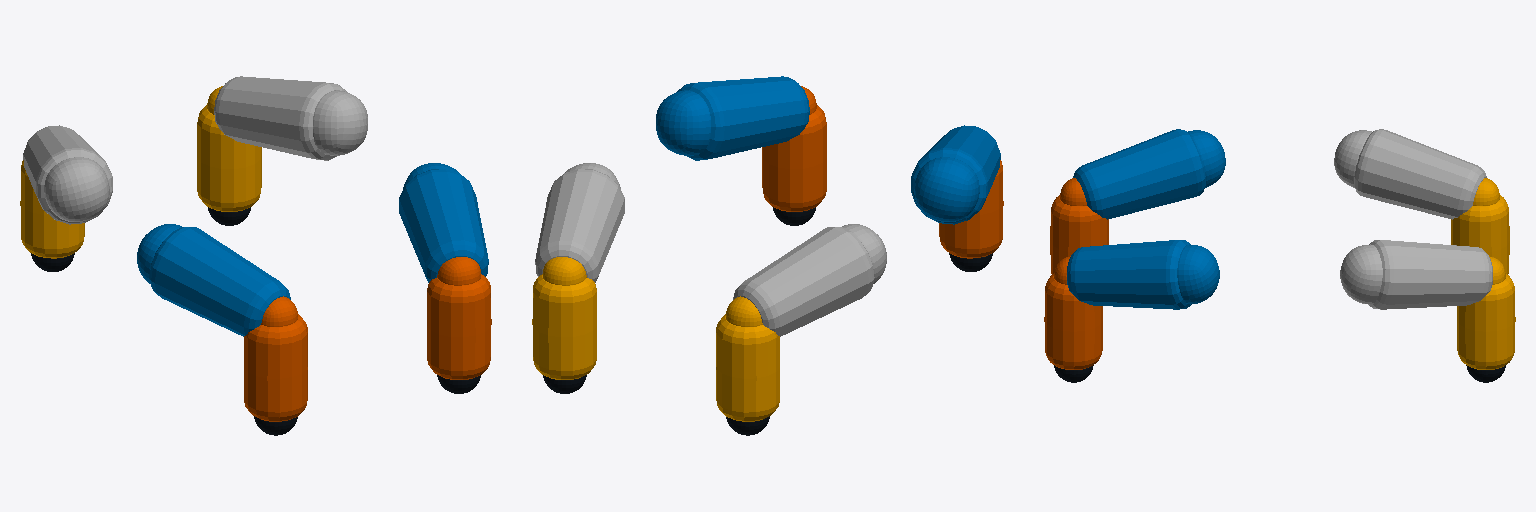
URDF robot description (lizard_robot):
<?xml version='1.0' encoding='utf-8'?>
<robot name="lizard_robot">
  <link name="base_link">
<inertial>
      <origin xyz="-0.562282 -0.000000 0.000041" rpy="0 0 0" />
      <mass value="11.5415" />
      <inertia ixx="0.882862" ixy="0" ixz="0" iyy="1.369187" iyz="0" izz="1.369187" />
    </inertial>
    
    <visual>
      <origin xyz="0 0 0" rpy="0 0 0" />
      <geometry><mesh filename="meshes/visual/base_link_visual.obj" /></geometry>
    </visual>
    <collision>
      <origin xyz="0 0 0" rpy="0 0 0" />
      <geometry><mesh filename="meshes/collision/base_link_collision.obj" /></geometry>
    </collision>
  </link>
  <link name="chest_yaw">
<inertial>
      <origin xyz="0.000000 0.000000 0.000000" rpy="0 0 0" />
      <mass value="0.0500" />
      <inertia ixx="0.000001" ixy="0" ixz="0" iyy="0.000001" iyz="0" izz="0.000001" />
    </inertial>
  
  </link>
  <link name="chest_pitch">
<inertial>
      <origin xyz="0.349711 -0.000000 0.000041" rpy="0 0 0" />
      <mass value="16.2013" />
      <inertia ixx="1.332114" ixy="0" ixz="0" iyy="2.816066" iyz="0" izz="2.816066" />
    </inertial>
    
    <visual>
      <origin xyz="0 0 0" rpy="0 0 0" />
      <geometry><mesh filename="meshes/visual/chest_pitch_visual.obj" /></geometry>
    </visual>
    <collision>
      <origin xyz="0 0 0" rpy="0 0 0" />
      <geometry><mesh filename="meshes/collision/chest_pitch_collision.obj" /></geometry>
    </collision>
  </link>
  <link name="neck_yaw">
<inertial>
      <origin xyz="0.000000 0.000000 0.000000" rpy="0 0 0" />
      <mass value="0.0500" />
      <inertia ixx="0.000001" ixy="0" ixz="0" iyy="0.000001" iyz="0" izz="0.000001" />
    </inertial>
  
  </link>
  <link name="neck_pitch">
<inertial>
      <origin xyz="-0.081966 -0.000000 0.001171" rpy="0 0 0" />
      <mass value="11.3585" />
      <inertia ixx="1.259181" ixy="0" ixz="0" iyy="1.298410" iyz="0" izz="1.273023" />
    </inertial>
    
    <visual>
      <origin xyz="0 0 0" rpy="0 0 0" />
      <geometry><mesh filename="meshes/visual/neck_pitch_visual.obj" /></geometry>
    </visual>
    <collision>
      <origin xyz="0 0 0" rpy="0 0 0" />
      <geometry><mesh filename="meshes/collision/neck_pitch_collision.obj" /></geometry>
    </collision>
  </link>
  <link name="lf_shoulder_swing">
<inertial>
      <origin xyz="0.000000 0.000000 0.000000" rpy="0 0 0" />
      <mass value="0.025" />
      <inertia ixx="5e-07" ixy="0" ixz="0" iyy="5e-07" iyz="0" izz="5e-07" />
    </inertial>
  
  </link>
  <link name="lf_shoulder_abduct">
<inertial>
      <origin xyz="0.000000 0.000000 0.000000" rpy="0 0 0" />
      <mass value="0.025" />
      <inertia ixx="5e-07" ixy="0" ixz="0" iyy="5e-07" iyz="0" izz="5e-07" />
    </inertial>
  
  </link>
  <link name="lf_shoulder_twist">
<inertial>
      <origin xyz="-0.071764 0.187219 -0.030538" rpy="0 0 0" />
      <mass value="3.1181" />
      <inertia ixx="0.124344" ixy="0" ixz="0" iyy="0.065242" iyz="0" izz="0.135718" />
    </inertial>
    
    <visual>
      <origin xyz="0 0 0" rpy="0 0 0" />
      <geometry><mesh filename="meshes/visual/lf_shoulder_twist_visual.obj" /></geometry>
    </visual>
    <collision>
      <origin xyz="0 0 0" rpy="0 0 0" />
      <geometry><mesh filename="meshes/collision/lf_shoulder_twist_collision.obj" /></geometry>
    </collision>
  </link>
  <link name="lf_elbow">
<inertial>
      <origin xyz="0.000000 -0.000001 -0.151529" rpy="0 0 0" />
      <mass value="1.9107" />
      <inertia ixx="0.042611" ixy="0" ixz="0" iyy="0.042611" iyz="0" izz="0.017492" />
    </inertial>
    
    <visual>
      <origin xyz="0 0 0" rpy="0 0 0" />
      <geometry><mesh filename="meshes/visual/lf_elbow_visual.obj" /></geometry>
    </visual>
    <collision>
      <origin xyz="0 0 0" rpy="0 0 0" />
      <geometry><mesh filename="meshes/collision/lf_elbow_collision.obj" /></geometry>
    </collision>
  </link>
  <link name="lf_wrist"><inertial><origin xyz="0 0 0" rpy="0 0 0" /><mass value="1.0861" /><inertia ixx="0.002780416" iyy="0.002780416" izz="0.002780416" ixy="0" ixz="0" iyz="0" /></inertial><visual><origin xyz="0 0 0" rpy="0 0 0" /><geometry><sphere radius="0.08" /></geometry><material name="round_foot_rubber"><color rgba="0.09 0.12 0.15 1" /></material></visual><collision><origin xyz="0 0 0" rpy="0 0 0" /><geometry><sphere radius="0.08" /></geometry></collision></link><link name="rf_shoulder_swing">
<inertial>
      <origin xyz="0.000000 0.000000 0.000000" rpy="0 0 0" />
      <mass value="0.025" />
      <inertia ixx="5e-07" ixy="0" ixz="0" iyy="5e-07" iyz="0" izz="5e-07" />
    </inertial>
  
  </link>
  <link name="rf_shoulder_abduct">
<inertial>
      <origin xyz="0.000000 0.000000 0.000000" rpy="0 0 0" />
      <mass value="0.025" />
      <inertia ixx="5e-07" ixy="0" ixz="0" iyy="5e-07" iyz="0" izz="5e-07" />
    </inertial>
  
  </link>
  <link name="rf_shoulder_twist">
<inertial>
      <origin xyz="-0.071765 -0.187219 -0.030538" rpy="0 0 0" />
      <mass value="3.1181" />
      <inertia ixx="0.124344" ixy="0" ixz="0" iyy="0.065242" iyz="0" izz="0.135718" />
    </inertial>
    
    <visual>
      <origin xyz="0 0 0" rpy="0 0 0" />
      <geometry><mesh filename="meshes/visual/rf_shoulder_twist_visual.obj" /></geometry>
    </visual>
    <collision>
      <origin xyz="0 0 0" rpy="0 0 0" />
      <geometry><mesh filename="meshes/collision/rf_shoulder_twist_collision.obj" /></geometry>
    </collision>
  </link>
  <link name="rf_elbow">
<inertial>
      <origin xyz="0.000000 0.000001 -0.151529" rpy="0 0 0" />
      <mass value="1.9107" />
      <inertia ixx="0.042611" ixy="0" ixz="0" iyy="0.042611" iyz="0" izz="0.017492" />
    </inertial>
    
    <visual>
      <origin xyz="0 0 0" rpy="0 0 0" />
      <geometry><mesh filename="meshes/visual/rf_elbow_visual.obj" /></geometry>
    </visual>
    <collision>
      <origin xyz="0 0 0" rpy="0 0 0" />
      <geometry><mesh filename="meshes/collision/rf_elbow_collision.obj" /></geometry>
    </collision>
  </link>
  <link name="rf_wrist"><inertial><origin xyz="0 0 0" rpy="0 0 0" /><mass value="1.0861" /><inertia ixx="0.002780416" iyy="0.002780416" izz="0.002780416" ixy="0" ixz="0" iyz="0" /></inertial><visual><origin xyz="0 0 0" rpy="0 0 0" /><geometry><sphere radius="0.08" /></geometry><material name="round_foot_rubber"><color rgba="0.09 0.12 0.15 1" /></material></visual><collision><origin xyz="0 0 0" rpy="0 0 0" /><geometry><sphere radius="0.08" /></geometry></collision></link><link name="tail1_yaw">
<inertial>
      <origin xyz="0.000000 0.000000 0.000000" rpy="0 0 0" />
      <mass value="0.0500" />
      <inertia ixx="0.000001" ixy="0" ixz="0" iyy="0.000001" iyz="0" izz="0.000001" />
    </inertial>
  
  </link>
  <link name="tail1_pitch">
<inertial>
      <origin xyz="-0.115276 -0.000377 -0.170720" rpy="0 0 0" />
      <mass value="4.0133" />
      <inertia ixx="0.177366" ixy="0" ixz="0" iyy="0.237661" iyz="0" izz="0.132145" />
    </inertial>
    
    <visual>
      <origin xyz="0 0 0" rpy="0 0 0" />
      <geometry><mesh filename="meshes/visual/tail1_pitch_visual.obj" /></geometry>
    </visual>
    <collision>
      <origin xyz="0 0 0" rpy="0 0 0" />
      <geometry><mesh filename="meshes/collision/tail1_pitch_collision.obj" /></geometry>
    </collision>
  </link>
  <link name="tail2_yaw">
<inertial>
      <origin xyz="0.000000 0.000000 0.000000" rpy="0 0 0" />
      <mass value="0.0500" />
      <inertia ixx="0.000001" ixy="0" ixz="0" iyy="0.000001" iyz="0" izz="0.000001" />
    </inertial>
  
  </link>
  <link name="tail2_pitch">
<inertial>
      <origin xyz="-0.161846 -0.000047 -0.012437" rpy="0 0 0" />
      <mass value="2.3739" />
      <inertia ixx="0.028945" ixy="0" ixz="0" iyy="0.069960" iyz="0" izz="0.068587" />
    </inertial>
    
    <visual>
      <origin xyz="0 0 0" rpy="0 0 0" />
      <geometry><mesh filename="meshes/visual/tail2_pitch_visual.obj" /></geometry>
    </visual>
    <collision>
      <origin xyz="0 0 0" rpy="0 0 0" />
      <geometry><mesh filename="meshes/collision/tail2_pitch_collision.obj" /></geometry>
    </collision>
  </link>
  <link name="tail3_yaw">
<inertial>
      <origin xyz="0.000000 0.000000 0.000000" rpy="0 0 0" />
      <mass value="0.0500" />
      <inertia ixx="0.000001" ixy="0" ixz="0" iyy="0.000001" iyz="0" izz="0.000001" />
    </inertial>
  
  </link>
  <link name="tail3_pitch">
<inertial>
      <origin xyz="-0.250363 -0.000028 -0.004752" rpy="0 0 0" />
      <mass value="1.6023" />
      <inertia ixx="0.010405" ixy="0" ixz="0" iyy="0.062560" iyz="0" izz="0.062638" />
    </inertial>
    
    <visual>
      <origin xyz="0 0 0" rpy="0 0 0" />
      <geometry><mesh filename="meshes/visual/tail3_pitch_visual.obj" /></geometry>
    </visual>
    <collision>
      <origin xyz="0 0 0" rpy="0 0 0" />
      <geometry><mesh filename="meshes/collision/tail3_pitch_collision.obj" /></geometry>
    </collision>
  </link>
  <link name="rl_hip_swing">
<inertial>
      <origin xyz="0.000000 0.000000 0.000000" rpy="0 0 0" />
      <mass value="0.025" />
      <inertia ixx="5e-07" ixy="0" ixz="0" iyy="5e-07" iyz="0" izz="5e-07" />
    </inertial>
  
  </link>
  <link name="rl_hip_abduct">
<inertial>
      <origin xyz="0.000000 0.000000 0.000000" rpy="0 0 0" />
      <mass value="0.025" />
      <inertia ixx="5e-07" ixy="0" ixz="0" iyy="5e-07" iyz="0" izz="5e-07" />
    </inertial>
  
  </link>
  <link name="rl_hip_twist">
<inertial>
      <origin xyz="0.071775 0.187241 -0.030504" rpy="0 0 0" />
      <mass value="3.1181" />
      <inertia ixx="0.124367" ixy="0" ixz="0" iyy="0.065238" iyz="0" izz="0.135709" />
    </inertial>
    
    <visual>
      <origin xyz="0 0 0" rpy="0 0 0" />
      <geometry><mesh filename="meshes/visual/rl_hip_twist_visual.obj" /></geometry>
    </visual>
    <collision>
      <origin xyz="0 0 0" rpy="0 0 0" />
      <geometry><mesh filename="meshes/collision/rl_hip_twist_collision.obj" /></geometry>
    </collision>
  </link>
  <link name="rl_knee">
<inertial>
      <origin xyz="-0.000000 -0.000000 -0.151529" rpy="0 0 0" />
      <mass value="1.9107" />
      <inertia ixx="0.042611" ixy="0" ixz="0" iyy="0.042611" iyz="0" izz="0.017492" />
    </inertial>
    
    <visual>
      <origin xyz="0 0 0" rpy="0 0 0" />
      <geometry><mesh filename="meshes/visual/rl_knee_visual.obj" /></geometry>
    </visual>
    <collision>
      <origin xyz="0 0 0" rpy="0 0 0" />
      <geometry><mesh filename="meshes/collision/rl_knee_collision.obj" /></geometry>
    </collision>
  </link>
  <link name="rl_ankle"><inertial><origin xyz="0 0 0" rpy="0 0 0" /><mass value="1.0861" /><inertia ixx="0.002780416" iyy="0.002780416" izz="0.002780416" ixy="0" ixz="0" iyz="0" /></inertial><visual><origin xyz="0 0 0" rpy="0 0 0" /><geometry><sphere radius="0.08" /></geometry><material name="round_foot_rubber"><color rgba="0.09 0.12 0.15 1" /></material></visual><collision><origin xyz="0 0 0" rpy="0 0 0" /><geometry><sphere radius="0.08" /></geometry></collision></link><link name="rr_hip_swing">
<inertial>
      <origin xyz="0.000000 0.000000 0.000000" rpy="0 0 0" />
      <mass value="0.025" />
      <inertia ixx="5e-07" ixy="0" ixz="0" iyy="5e-07" iyz="0" izz="5e-07" />
    </inertial>
  
  </link>
  <link name="rr_hip_abduct">
<inertial>
      <origin xyz="0.000000 0.000000 0.000000" rpy="0 0 0" />
      <mass value="0.025" />
      <inertia ixx="5e-07" ixy="0" ixz="0" iyy="5e-07" iyz="0" izz="5e-07" />
    </inertial>
  
  </link>
  <link name="rr_hip_twist">
<inertial>
      <origin xyz="0.071774 -0.187241 -0.030504" rpy="0 0 0" />
      <mass value="3.1181" />
      <inertia ixx="0.124367" ixy="0" ixz="0" iyy="0.065238" iyz="0" izz="0.135709" />
    </inertial>
    
    <visual>
      <origin xyz="0 0 0" rpy="0 0 0" />
      <geometry><mesh filename="meshes/visual/rr_hip_twist_visual.obj" /></geometry>
    </visual>
    <collision>
      <origin xyz="0 0 0" rpy="0 0 0" />
      <geometry><mesh filename="meshes/collision/rr_hip_twist_collision.obj" /></geometry>
    </collision>
  </link>
  <link name="rr_knee">
<inertial>
      <origin xyz="0.000000 0.000000 -0.151530" rpy="0 0 0" />
      <mass value="1.9107" />
      <inertia ixx="0.042611" ixy="0" ixz="0" iyy="0.042611" iyz="0" izz="0.017492" />
    </inertial>
    
    <visual>
      <origin xyz="0 0 0" rpy="0 0 0" />
      <geometry><mesh filename="meshes/visual/rr_knee_visual.obj" /></geometry>
    </visual>
    <collision>
      <origin xyz="0 0 0" rpy="0 0 0" />
      <geometry><mesh filename="meshes/collision/rr_knee_collision.obj" /></geometry>
    </collision>
  </link>
  <link name="rr_ankle"><inertial><origin xyz="0 0 0" rpy="0 0 0" /><mass value="1.0861" /><inertia ixx="0.002780416" iyy="0.002780416" izz="0.002780416" ixy="0" ixz="0" iyz="0" /></inertial><visual><origin xyz="0 0 0" rpy="0 0 0" /><geometry><sphere radius="0.08" /></geometry><material name="round_foot_rubber"><color rgba="0.09 0.12 0.15 1" /></material></visual><collision><origin xyz="0 0 0" rpy="0 0 0" /><geometry><sphere radius="0.08" /></geometry></collision></link><joint name="chest_yaw_joint" type="revolute">
    <parent link="base_link" />
    <child link="chest_yaw" />
    <origin xyz="0.000000 0.000000 0.000000" rpy="0 0 0" />
    <axis xyz="0.000000000 0.000000000 1.000000000" />
    <limit lower="-0.600000000" upper="0.600000000" effort="80" velocity="4" />
  </joint>
  
<joint name="chest_pitch_joint" type="revolute">
    <parent link="chest_yaw" />
    <child link="chest_pitch" />
    <origin xyz="-0.005000 0.000000 0.000000" rpy="0 0 0" />
    <axis xyz="0.000000075 1.000000000 0.000000000" />
    <limit lower="-0.500000000" upper="0.500000000" effort="80" velocity="4" />
  </joint>
  
<joint name="neck_yaw_joint" type="revolute">
    <parent link="chest_pitch" />
    <child link="neck_yaw" />
    <origin xyz="1.261300 -0.000000 0.189500" rpy="0 0 0" />
    <axis xyz="0.000000000 0.000000000 1.000000000" />
    <limit lower="-0.600000000" upper="0.600000000" effort="80" velocity="4" />
  </joint>
  
<joint name="neck_pitch_joint" type="revolute">
    <parent link="neck_yaw" />
    <child link="neck_pitch" />
    <origin xyz="0.005000 -0.000000 0.000000" rpy="0 0 0" />
    <axis xyz="0.000000090 1.000000000 -0.000000062" />
    <limit lower="-0.500000000" upper="0.500000000" effort="80" velocity="4" />
  </joint>
  
<joint name="lf_shoulder_swing_joint" type="revolute">
    <parent link="chest_pitch" />
    <child link="lf_shoulder_swing" />
    <origin xyz="0.485375 0.359465 -0.055891" rpy="0 0 0" />
    <axis xyz="0.000000000 0.000000000 1.000000000" />
    <limit lower="-0.600000000" upper="0.600000000" effort="180" velocity="10" />
  </joint>
  
<joint name="lf_shoulder_abduct_joint" type="revolute">
    <parent link="lf_shoulder_swing" />
    <child link="lf_shoulder_abduct" />
    <origin xyz="0.000000 0.000000 0.000000" rpy="0 0 0" />
    <axis xyz="-0.939692557 -0.342020184 -0.000000000" />
    <limit lower="-0.600000000" upper="0.600000000" effort="180" velocity="10" />
  </joint>
  
<joint name="lf_shoulder_twist_joint" type="revolute">
    <parent link="lf_shoulder_abduct" />
    <child link="lf_shoulder_twist" />
    <origin xyz="0.000000 0.000000 0.000000" rpy="0 0 0" />
    <axis xyz="-0.336985975504 0.925861775875 -0.170939937234" />
    <limit lower="-0.5235987755982988" upper="0.5235987755982988" effort="180" velocity="10" />
  </joint>
  
<joint name="lf_elbow_joint" type="revolute">
    <parent link="lf_shoulder_twist" />
    <child link="lf_elbow" />
    <origin xyz="-0.169047 0.464453 -0.085751" rpy="0 0 0" />
    <axis xyz="-0.939692557 -0.342020184 -0.000000000" />
    <limit lower="-1" upper="1" effort="180" velocity="10" />
  </joint>
  
<joint name="lf_wrist_fixed" type="fixed">
    <parent link="lf_elbow" />
    <child link="lf_wrist" />
    <origin xyz="0.000000 0.000000 -0.382121" rpy="0 0 0" />
    </joint>
  
<joint name="rf_shoulder_swing_joint" type="revolute">
    <parent link="chest_pitch" />
    <child link="rf_shoulder_swing" />
    <origin xyz="0.485375 -0.359465 -0.055891" rpy="0 0 0" />
    <axis xyz="0.000000000 0.000000000 -1.000000000" />
    <limit lower="-0.600000000" upper="0.600000000" effort="180" velocity="10" />
  </joint>
  
<joint name="rf_shoulder_abduct_joint" type="revolute">
    <parent link="rf_shoulder_swing" />
    <child link="rf_shoulder_abduct" />
    <origin xyz="0.000000 0.000000 0.000000" rpy="0 0 0" />
    <axis xyz="0.939692557 -0.342020184 0.000000000" />
    <limit lower="-0.600000000" upper="0.600000000" effort="180" velocity="10" />
  </joint>
  
<joint name="rf_shoulder_twist_joint" type="revolute">
    <parent link="rf_shoulder_abduct" />
    <child link="rf_shoulder_twist" />
    <origin xyz="0.000000 0.000000 0.000000" rpy="0 0 0" />
    <axis xyz="-0.336985975504 -0.925861775875 -0.170939937234" />
    <limit lower="-0.5235987755982988" upper="0.5235987755982988" effort="180" velocity="10" />
  </joint>
  
<joint name="rf_elbow_joint" type="revolute">
    <parent link="rf_shoulder_twist" />
    <child link="rf_elbow" />
    <origin xyz="-0.169047 -0.464453 -0.085751" rpy="0 0 0" />
    <axis xyz="0.939692557 -0.342020184 0.000000000" />
    <limit lower="-1" upper="1" effort="180" velocity="10" />
  </joint>
  
<joint name="rf_wrist_fixed" type="fixed">
    <parent link="rf_elbow" />
    <child link="rf_wrist" />
    <origin xyz="0.000000 0.000000 -0.382121" rpy="0 0 0" />
    </joint>
  
<joint name="tail1_yaw_joint" type="revolute">
    <parent link="base_link" />
    <child link="tail1_yaw" />
    <origin xyz="-1.069600 0.000000 0.000000" rpy="0 0 0" />
    <axis xyz="0.000000000 0.000000000 1.000000000" />
    <limit lower="-0.600000000" upper="0.600000000" effort="80" velocity="4" />
  </joint>
  
<joint name="tail1_pitch_joint" type="revolute">
    <parent link="tail1_yaw" />
    <child link="tail1_pitch" />
    <origin xyz="-0.005000 0.000000 0.000000" rpy="0 0 0" />
    <axis xyz="0.010199841 0.999947965 -0.000000004" />
    <limit lower="-0.500000000" upper="0.500000000" effort="80" velocity="4" />
  </joint>
  
<joint name="tail2_yaw_joint" type="revolute">
    <parent link="tail1_pitch" />
    <child link="tail2_yaw" />
    <origin xyz="-0.292576 0.002984 -0.452943" rpy="0 0 0" />
    <axis xyz="0.000000000 0.000000000 1.000000000" />
    <limit lower="-0.600000000" upper="0.600000000" effort="80" velocity="4" />
  </joint>
  
<joint name="tail2_pitch_joint" type="revolute">
    <parent link="tail2_yaw" />
    <child link="tail2_pitch" />
    <origin xyz="-0.004901 -0.000001 0.000990" rpy="0 0 0" />
    <axis xyz="-0.019609608 0.980781317 0.194122165" />
    <limit lower="-0.500000000" upper="0.500000000" effort="80" velocity="4" />
  </joint>
  
<joint name="tail3_yaw_joint" type="revolute">
    <parent link="tail2_pitch" />
    <child link="tail3_yaw" />
    <origin xyz="-0.427768 -0.000088 -0.042767" rpy="0 0 0" />
    <axis xyz="0.000000000 0.000000000 1.000000000" />
    <limit lower="-0.600000000" upper="0.600000000" effort="80" velocity="4" />
  </joint>
  
<joint name="tail3_pitch_joint" type="revolute">
    <parent link="tail3_yaw" />
    <child link="tail3_pitch" />
    <origin xyz="-0.000077 -0.000000 -0.004999" rpy="0 0 0" />
    <axis xyz="0.023539688 0.980789781 -0.193642288" />
    <limit lower="-0.500000000" upper="0.500000000" effort="80" velocity="4" />
  </joint>
  
<joint name="rl_hip_swing_joint" type="revolute">
    <parent link="base_link" />
    <child link="rl_hip_swing" />
    <origin xyz="-0.602861 0.335819 -0.055928" rpy="0 0 0" />
    <axis xyz="0.000000000 0.000000000 1.000000000" />
    <limit lower="-0.600000000" upper="0.600000000" effort="180" velocity="10" />
  </joint>
  
<joint name="rl_hip_abduct_joint" type="revolute">
    <parent link="rl_hip_swing" />
    <child link="rl_hip_abduct" />
    <origin xyz="0.000000 0.000000 0.000000" rpy="0 0 0" />
    <axis xyz="-0.939692557 0.342020094 0.000000000" />
    <limit lower="-0.600000000" upper="0.600000000" effort="180" velocity="10" />
  </joint>
  
<joint name="rl_hip_twist_joint" type="revolute">
    <parent link="rl_hip_abduct" />
    <child link="rl_hip_twist" />
    <origin xyz="0.000000 0.000000 0.000000" rpy="0 0 0" />
    <axis xyz="0.336993932724 0.925882160664 -0.170813292265" />
    <limit lower="-0.5235987755982988" upper="0.5235987755982988" effort="180" velocity="10" />
  </joint>
  
<joint name="rl_knee_joint" type="revolute">
    <parent link="rl_hip_twist" />
    <child link="rl_knee" />
    <origin xyz="0.169056 0.464477 -0.085690" rpy="0 0 0" />
    <axis xyz="-0.939692557 0.342020094 0.000000000" />
    <limit lower="-1.200000000" upper="1.200000000" effort="180" velocity="10" />
  </joint>
  
<joint name="rl_ankle_fixed" type="fixed">
    <parent link="rl_knee" />
    <child link="rl_ankle" />
    <origin xyz="0.000000 0.000000 -0.382120" rpy="0 0 0" />
    </joint>
  
<joint name="rr_hip_swing_joint" type="revolute">
    <parent link="base_link" />
    <child link="rr_hip_swing" />
    <origin xyz="-0.602861 -0.335820 -0.055928" rpy="0 0 0" />
    <axis xyz="0.000000000 0.000000000 -1.000000000" />
    <limit lower="-0.600000000" upper="0.600000000" effort="180" velocity="10" />
  </joint>
  
<joint name="rr_hip_abduct_joint" type="revolute">
    <parent link="rr_hip_swing" />
    <child link="rr_hip_abduct" />
    <origin xyz="0.000000 0.000000 0.000000" rpy="0 0 0" />
    <axis xyz="0.939692557 0.342020094 -0.000000000" />
    <limit lower="-0.600000000" upper="0.600000000" effort="180" velocity="10" />
  </joint>
  
<joint name="rr_hip_twist_joint" type="revolute">
    <parent link="rr_hip_abduct" />
    <child link="rr_hip_twist" />
    <origin xyz="0.000000 0.000000 0.000000" rpy="0 0 0" />
    <axis xyz="0.336993813515 -0.92588186264 -0.170815214515" />
    <limit lower="-0.5235987755982988" upper="0.5235987755982988" effort="180" velocity="10" />
  </joint>
  
<joint name="rr_knee_joint" type="revolute">
    <parent link="rr_hip_twist" />
    <child link="rr_knee" />
    <origin xyz="0.169056 -0.464477 -0.085691" rpy="0 0 0" />
    <axis xyz="0.939692557 0.342020094 -0.000000000" />
    <limit lower="-1.200000000" upper="1.200000000" effort="180" velocity="10" />
  </joint>
  
<joint name="rr_ankle_fixed" type="fixed">
    <parent link="rr_knee" />
    <child link="rr_ankle" />
    <origin xyz="0.000000 0.000000 -0.382120" rpy="0 0 0" />
    </joint>

</robot>

--- Facts derived from the render (not from the file) ---
3 views of the same robot in one strip: view 1: azimuth 30°, elevation 25°; view 2: azimuth 150°, elevation 25°; view 3: azimuth 270°, elevation 25° (orthographic).
Model lizard_robot with 31 links and 30 joints (26 revolute, 4 fixed), rooted at base_link, posed all joints at 0.
Links seen in each view (by area): view 1: lf_shoulder_twist, rr_hip_twist, rf_shoulder_twist, rf_elbow, rr_knee, rl_hip_twist, lf_elbow, rl_knee; view 2: rf_shoulder_twist, rl_hip_twist, lf_shoulder_twist, lf_elbow, rl_knee, rr_hip_twist, rf_elbow, rr_knee; view 3: lf_shoulder_twist, rf_shoulder_twist, rl_hip_twist, rr_hip_twist, lf_elbow, rf_elbow, rl_knee, rr_knee.
Boxes of the visible links, left/top/right/bottom form: lf_shoulder_twist: left=214, top=76, right=367, bottom=160; rr_hip_twist: left=137, top=224, right=290, bottom=336; rf_shoulder_twist: left=399, top=163, right=488, bottom=282; rf_elbow: left=427, top=257, right=491, bottom=379; rr_knee: left=244, top=296, right=307, bottom=421; rl_hip_twist: left=23, top=125, right=112, bottom=224; lf_elbow: left=197, top=86, right=261, bottom=211; rl_knee: left=20, top=160, right=84, bottom=258; rf_shoulder_twist: left=656, top=76, right=809, bottom=160; rl_hip_twist: left=733, top=224, right=886, bottom=336; lf_shoulder_twist: left=535, top=163, right=624, bottom=282; lf_elbow: left=532, top=257, right=596, bottom=379; rl_knee: left=716, top=296, right=779, bottom=421; rr_hip_twist: left=911, top=125, right=1000, bottom=224; rf_elbow: left=762, top=86, right=826, bottom=211; rr_knee: left=939, top=160, right=1003, bottom=258; lf_shoulder_twist: left=1340, top=240, right=1492, bottom=309; rf_shoulder_twist: left=1067, top=240, right=1219, bottom=309; rl_hip_twist: left=1334, top=129, right=1486, bottom=219; rr_hip_twist: left=1073, top=129, right=1225, bottom=219; lf_elbow: left=1457, top=256, right=1515, bottom=369; rf_elbow: left=1044, top=256, right=1102, bottom=369; rl_knee: left=1451, top=178, right=1509, bottom=274; rr_knee: left=1050, top=178, right=1108, bottom=274.
Size in the robot's own frame: 1.32 by 1.88 by 0.6783 metres.
Meshes: 14 distinct files referenced, 8 mesh visuals loaded (8 OBJ); not drawn: 6 (reference not matched to a file when rendering).
